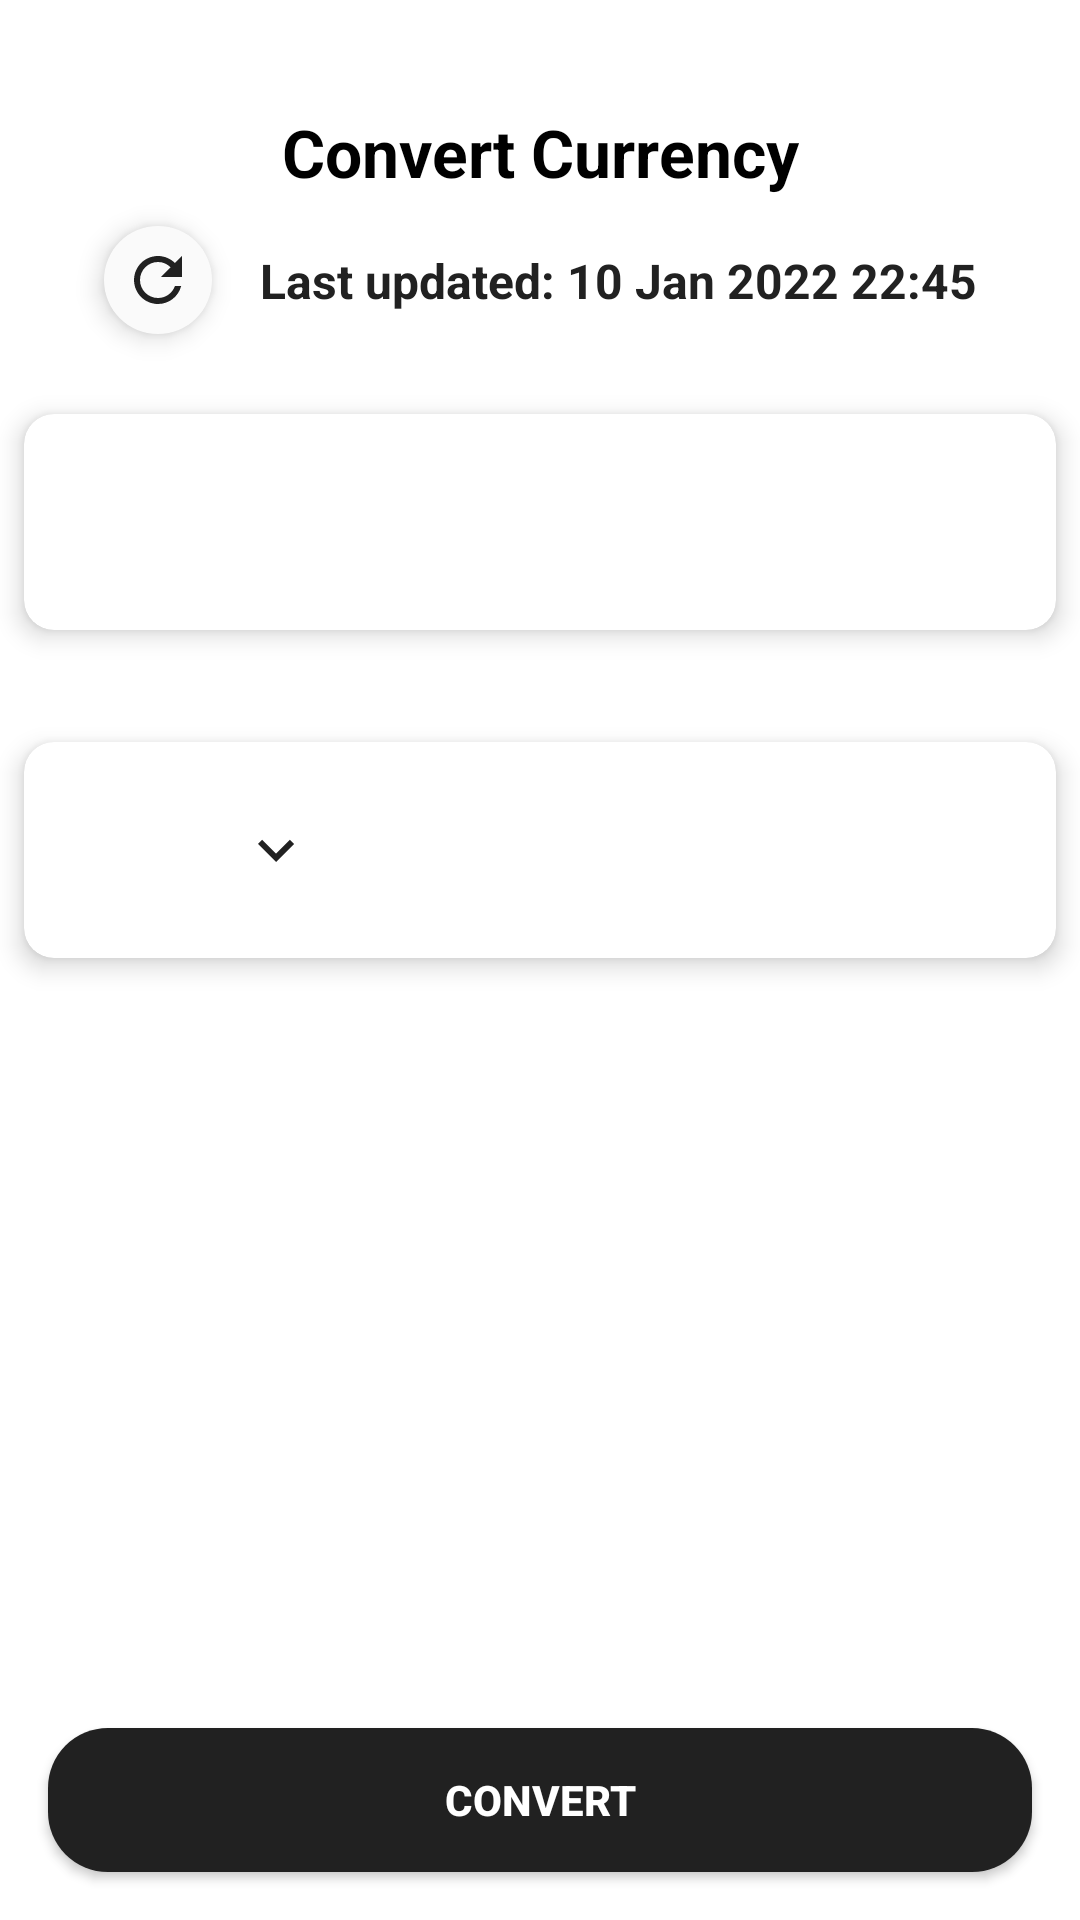

Where icons sit on this 1080*1920 app screen, as box(x1, y1, x2, y2):
arrow: box(258, 840, 294, 862)
refresh: box(104, 254, 182, 334)
